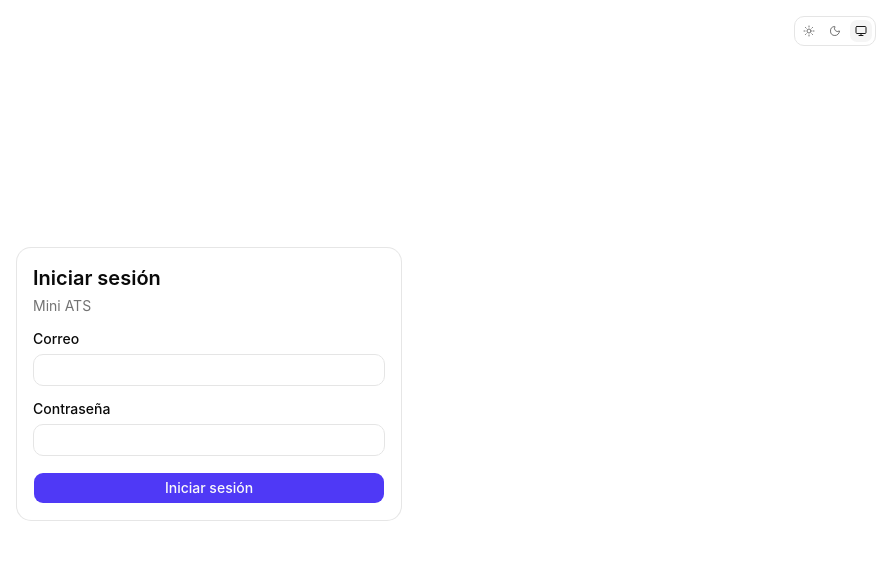
Test case: LoginPage › shows a generic message on invalid credentials
Type "ada@example.com" into the field labelled "Correo" at [209, 370], box [33,354,385,386]
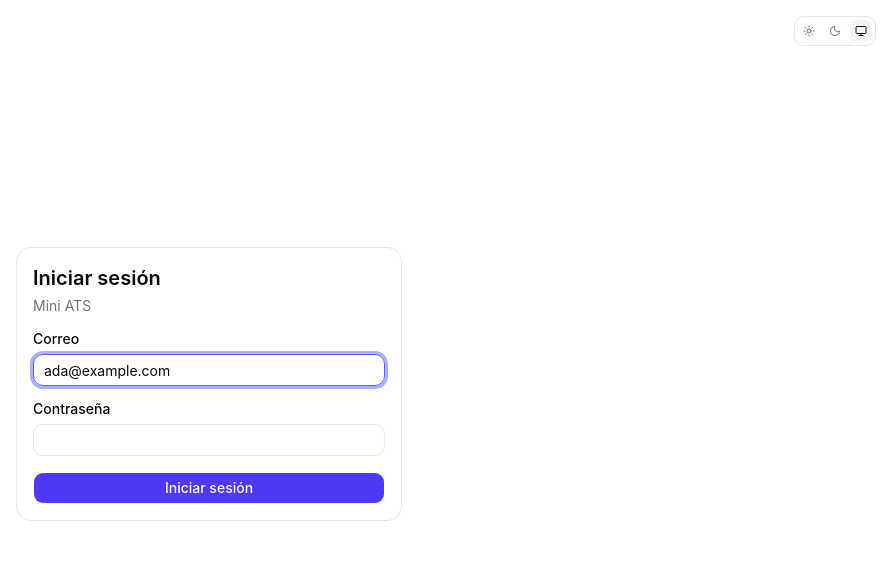
Type "incorrecta" into the password field labelled "Contraseña" at [209, 440], box [33,424,385,456]
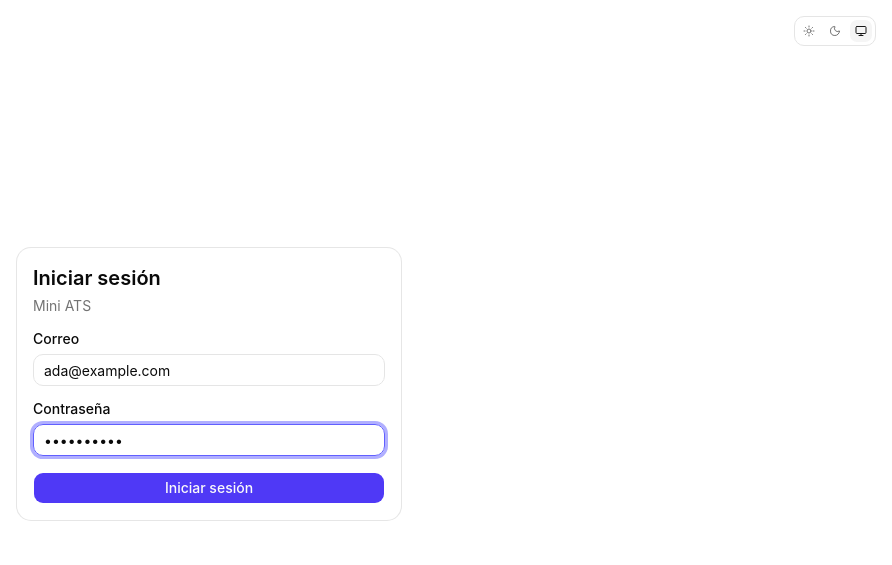
Click the button "Iniciar sesión" at [209, 488], box [33,472,385,504]
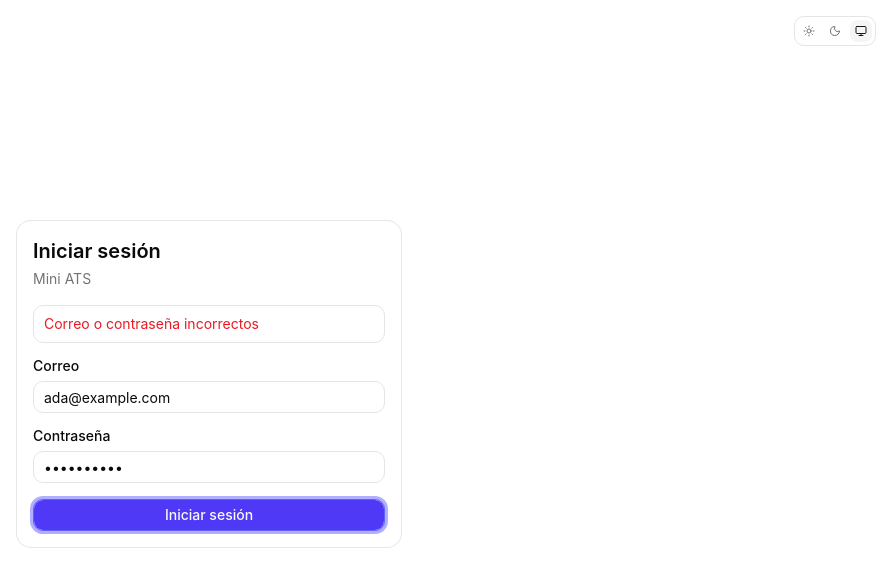
expect the text "Correo o contraseña incorrectos" is shown: met, box [44,315,259,332]
